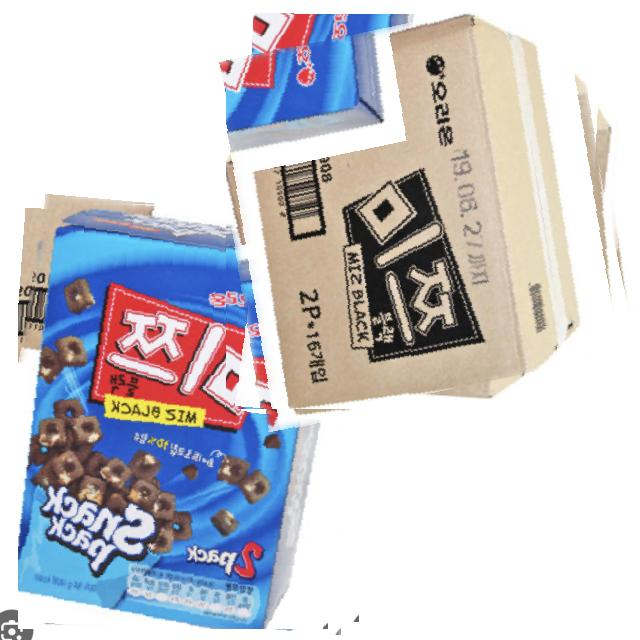biodegradable: (226, 5, 630, 409), (18, 201, 367, 629)
